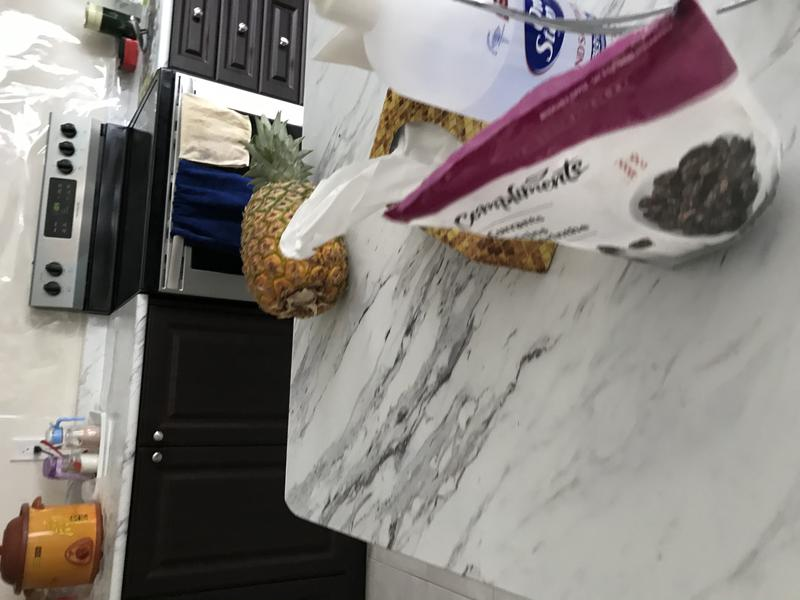pineapple: (235, 110, 355, 330)
